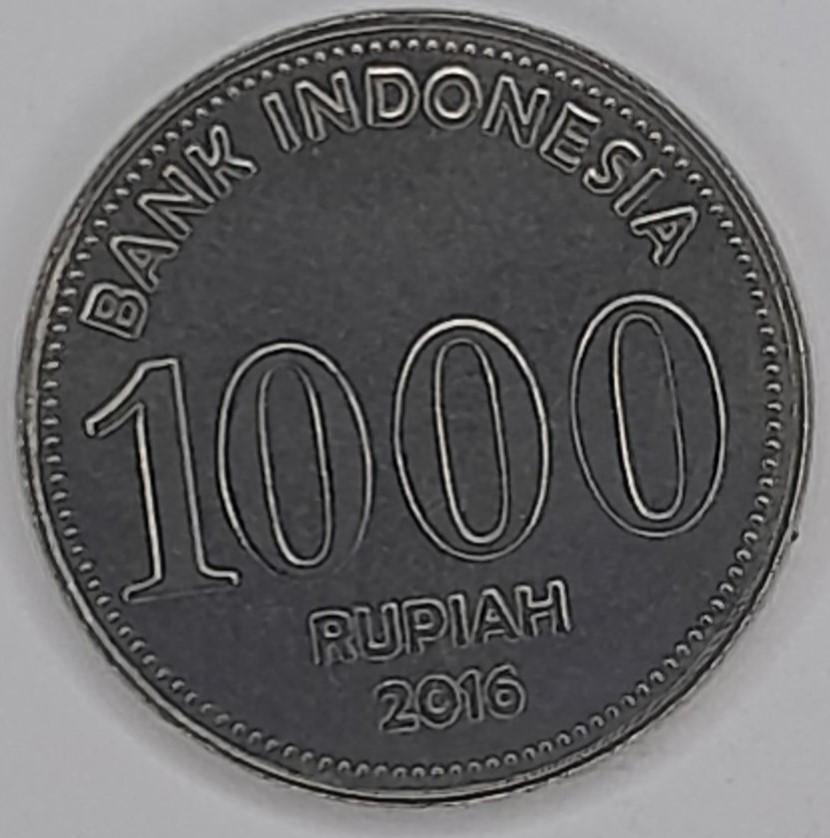coin_1000_e2016: (14, 17, 819, 838)
